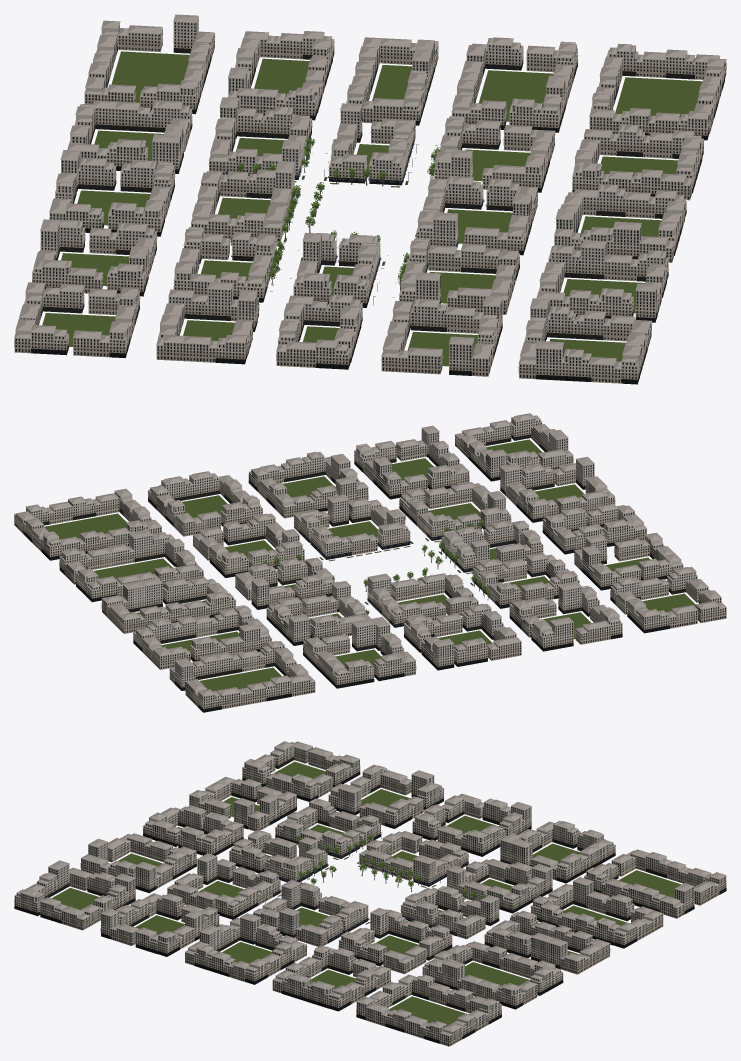
File: scene-hood.glb
3 renders of one model, top to bottom at view 1: azimuth 30°, elevation 25°; view 2: azimuth 150°, elevation 25°; view 3: azimuth 270°, elevation 25°, orthographic. The views are drawn at different scales.
Visible parts, largest first — view 1: hood_lawn; view 2: hood_lawn; view 3: hood_lawn.
Part boxes in pixels (left/top/right/bottom): hood_lawn: left=42, top=51, right=702, bottom=366; hood_lawn: left=44, top=439, right=695, bottom=691; hood_lawn: left=52, top=761, right=681, bottom=1025.
Bounding box in the file's own units: 863 × 32.42 × 884.
